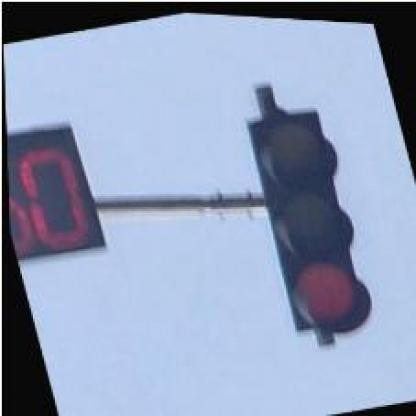red: (239, 97, 380, 339)
